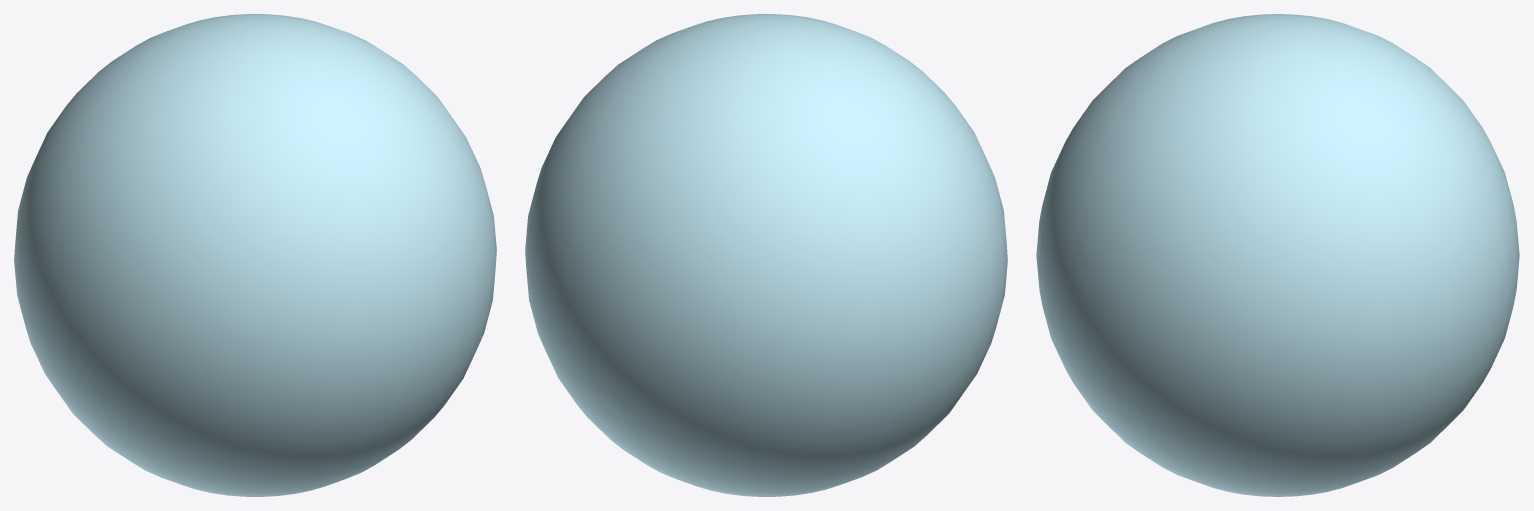
The model's file is Jaula.fbx.
3 renders of one model, left to right at view 1: azimuth 30°, elevation 25°; view 2: azimuth 150°, elevation 25°; view 3: azimuth 270°, elevation 25°, orthographic.
Parts seen in each view (by area): view 1: Burbuja; view 2: Burbuja; view 3: Burbuja.
Boxes of the visible parts, x1,y1,x2,y2 form: Burbuja: [14, 14, 496, 496]; Burbuja: [525, 14, 1007, 496]; Burbuja: [1036, 14, 1519, 496].
Bounding box in the file's own units: 1.9 × 1.9 × 1.9.
